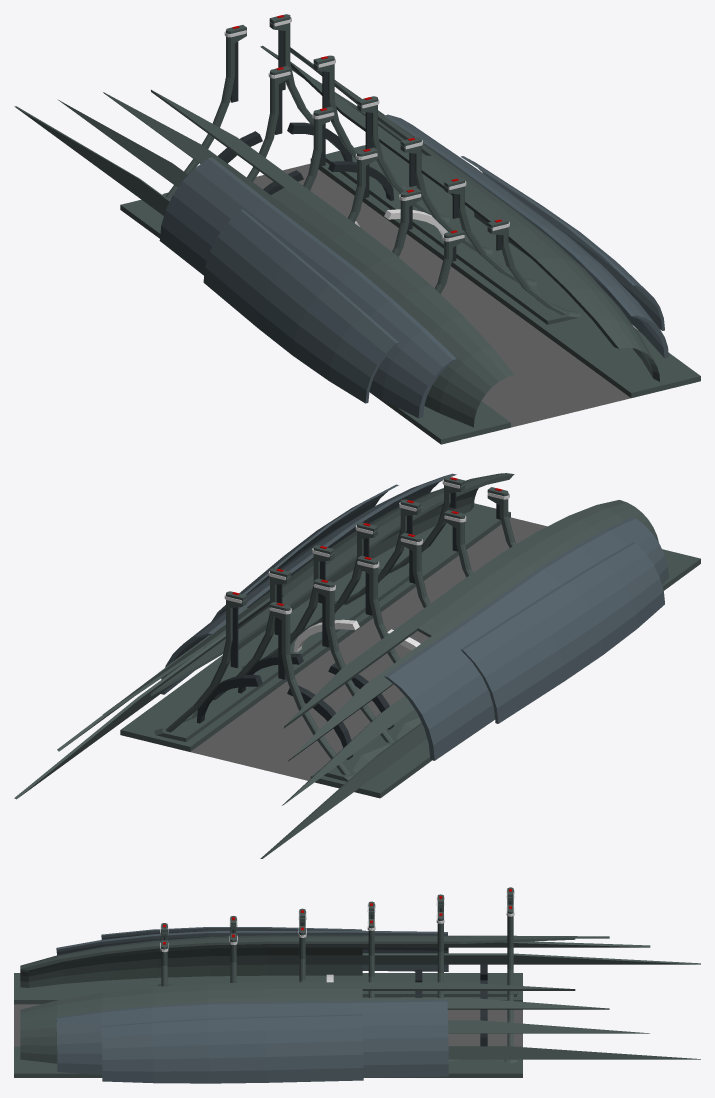
The model's file is building_44.fbx.
3 views of the same model, one above another, from view 1: azimuth 30°, elevation 25°; view 2: azimuth 150°, elevation 25°; view 3: azimuth 270°, elevation 25° (orthographic). The views are drawn at different scales.
Parts seen in each view (by area): view 1: building_44(CITY_GATE); view 2: building_44(CITY_GATE); view 3: building_44(CITY_GATE).
Part boxes in pixels (x1,y1,x2,y2): building_44(CITY_GATE): (14,14,700,444); building_44(CITY_GATE): (14,473,700,858); building_44(CITY_GATE): (14,887,700,1083).
Size of the model in its own units: 2269 by 1132 by 5471.
